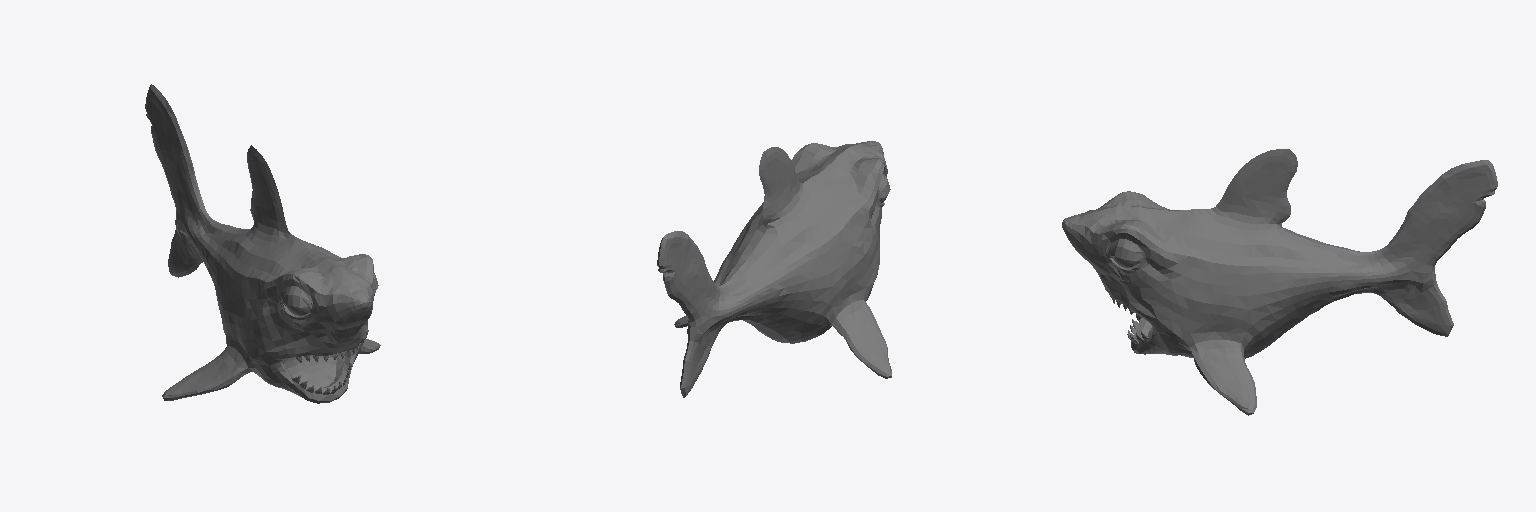
The model's file is littleSharkForSubstance.obj.
3 views of the same model, side by side, from view 1: azimuth 30°, elevation 25°; view 2: azimuth 150°, elevation 25°; view 3: azimuth 270°, elevation 25° (orthographic).
Visible parts, largest first — view 1: LittlSharkZ2:Group3; view 2: LittlSharkZ2:Group3; view 3: LittlSharkZ2:Group3.
Boxes of the visible parts, x1,y1,x2,y2 form: LittlSharkZ2:Group3: [145, 84, 380, 403]; LittlSharkZ2:Group3: [657, 141, 891, 397]; LittlSharkZ2:Group3: [1062, 149, 1497, 415].
Bounding box in the file's own units: 14.72 × 13.89 × 25.58.